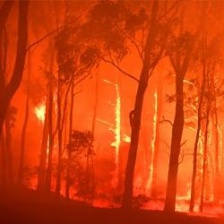fire: (32, 68, 224, 184)
